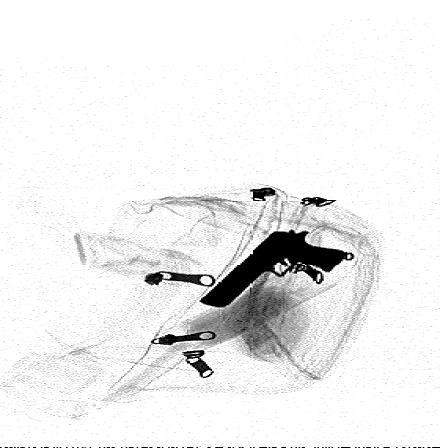Gun: (197, 229, 352, 312)
